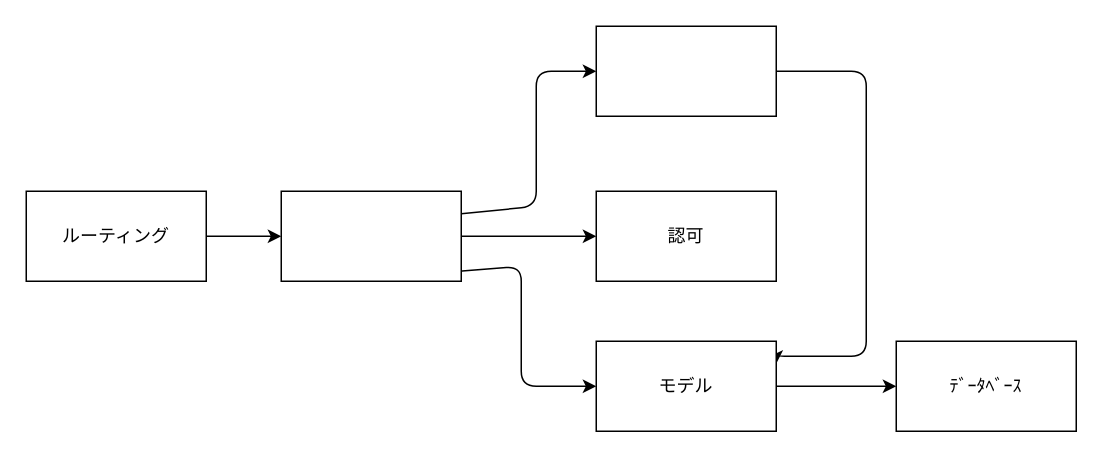
This 1103x458 diagram has some shape labels left out. The centre of each missing label's shape, as x and y in pixels:
"コントローラー" goes at [370,235].
"ビュー" goes at [685,70].
